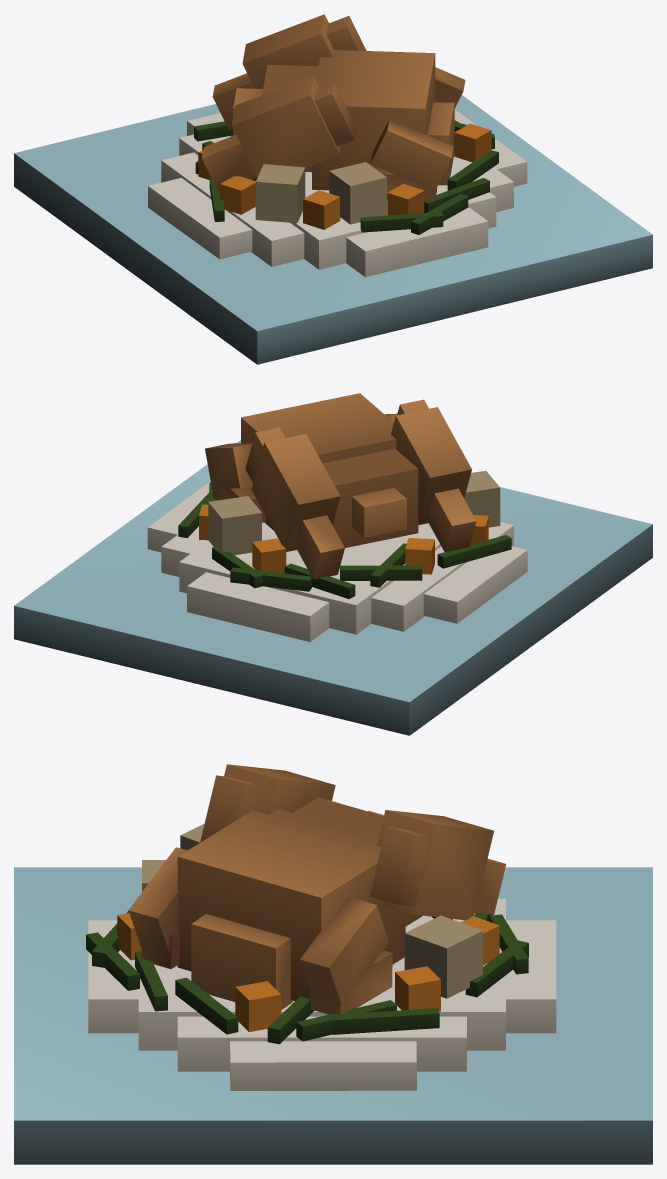
File: Food-001-Chicken.fbx
3 renders of one model, top to bottom at view 1: azimuth 30°, elevation 25°; view 2: azimuth 150°, elevation 25°; view 3: azimuth 270°, elevation 25°, orthographic. The views are drawn at different scales.
Visible parts, largest first — view 1: FOOD-Type01-Chicken; view 2: FOOD-Type01-Chicken; view 3: FOOD-Type01-Chicken.
Boxes of the visible parts, x1,y1,x2,y2 form: FOOD-Type01-Chicken: (14, 14, 652, 364); FOOD-Type01-Chicken: (14, 393, 652, 735); FOOD-Type01-Chicken: (14, 764, 652, 1164).
Bounding box in the file's own units: 6.45 × 2.76 × 6.87.
